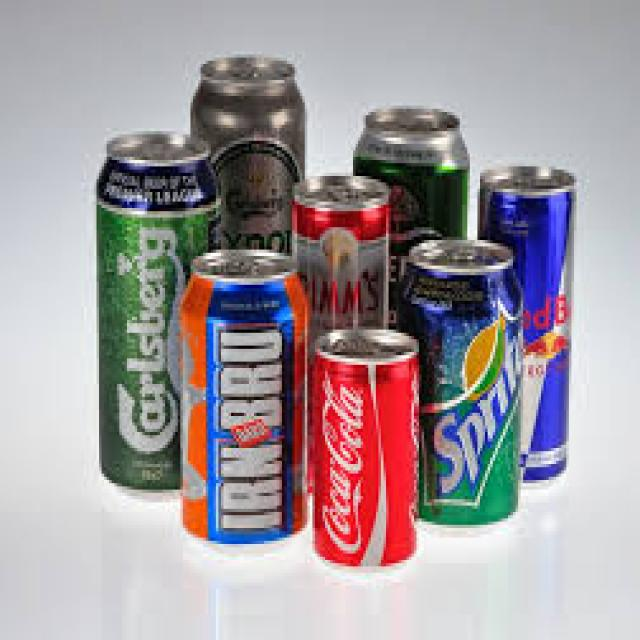Cans: (89, 122, 208, 496), (173, 240, 315, 547), (391, 237, 521, 528), (305, 320, 429, 570)
